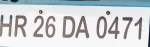0: (95, 15, 108, 40)
1: (134, 16, 145, 40)
2: (33, 15, 45, 38)
4: (108, 16, 120, 40)
6: (45, 15, 57, 38)
7: (121, 16, 133, 40)
A: (75, 14, 91, 39)
D: (61, 15, 76, 38)
H: (1, 12, 13, 37)
R: (14, 14, 28, 38)
